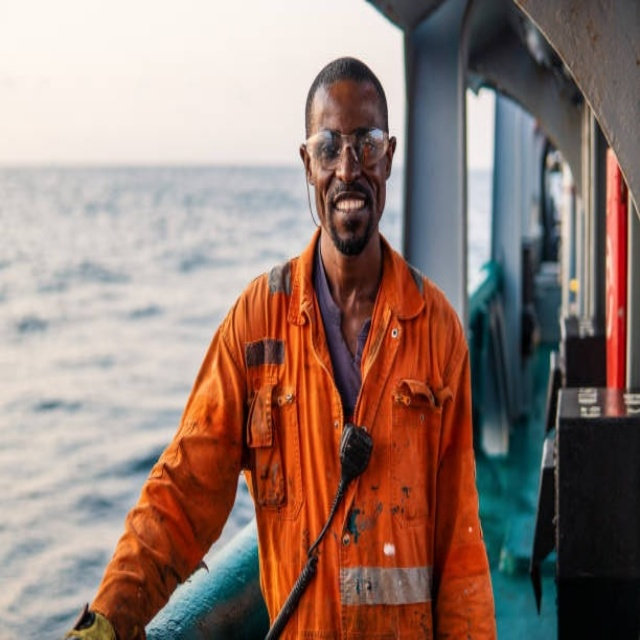Gafas: (304, 127, 390, 170)
Sin_mascara: (323, 182, 371, 234)
